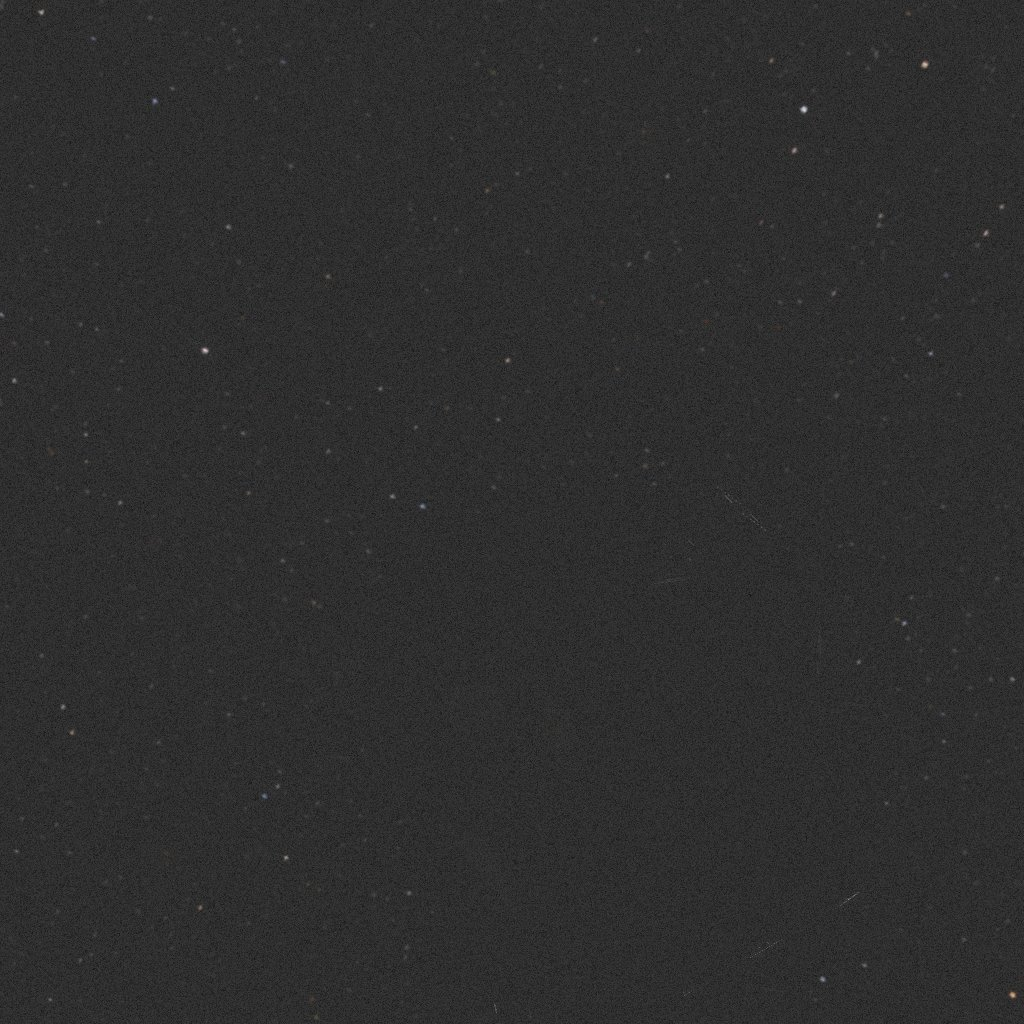proba_3_ocs: (353, 484, 870, 1024)
